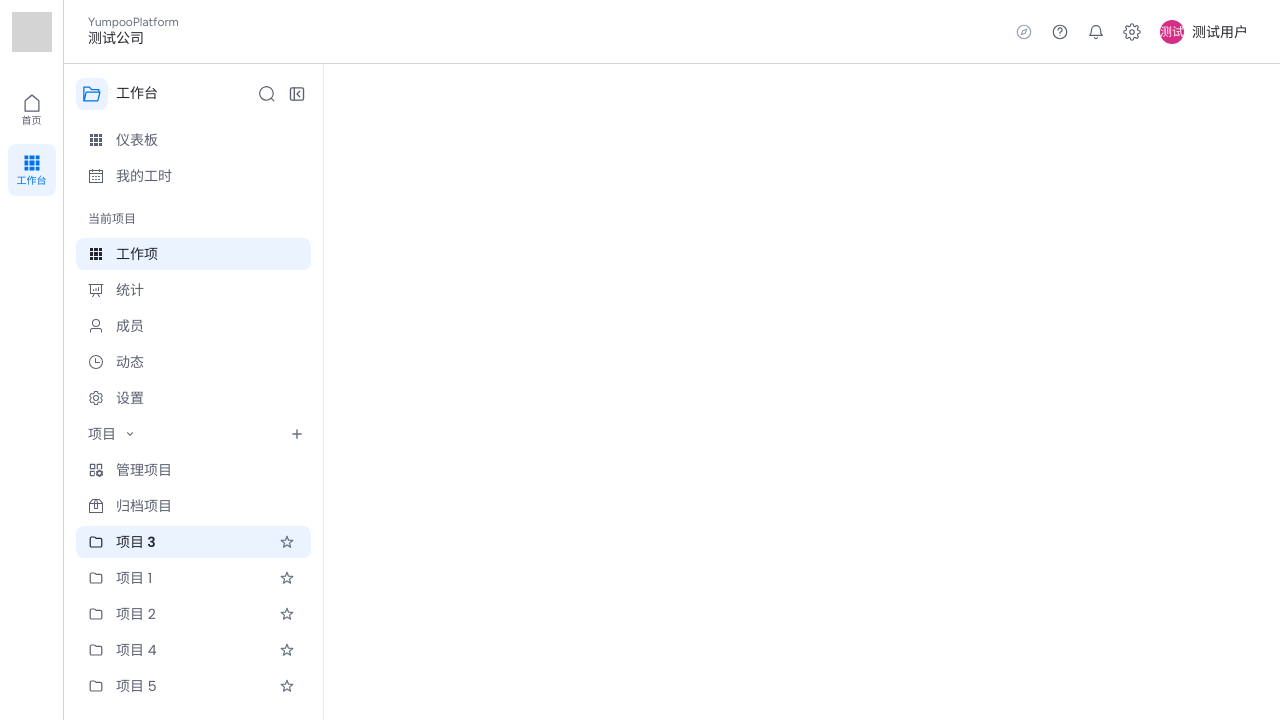
Test case: 项目侧栏导航 › 当前项目入口排在项目列表之前，收起项目列表时仍显示
Click the button "项目" at (178, 434), box top-left (76, 418), bottom-right (281, 450)
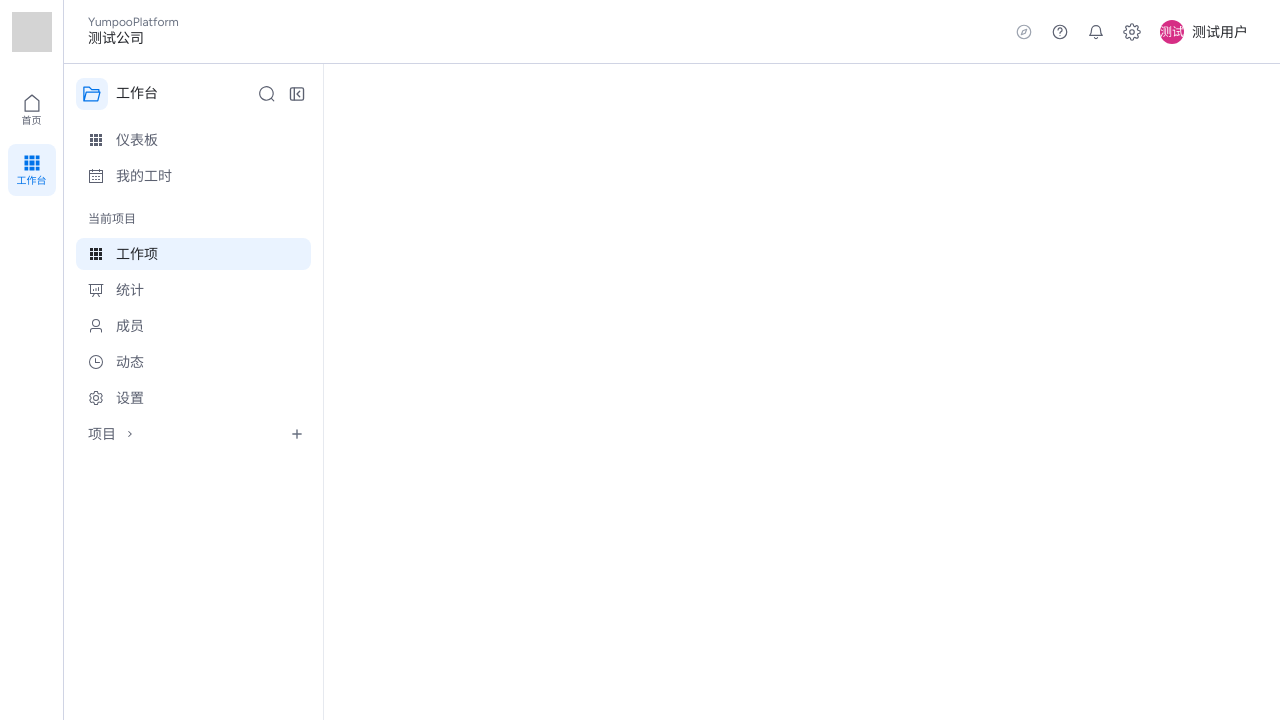
Now the element with id "desktop-project-navigation" is gone
